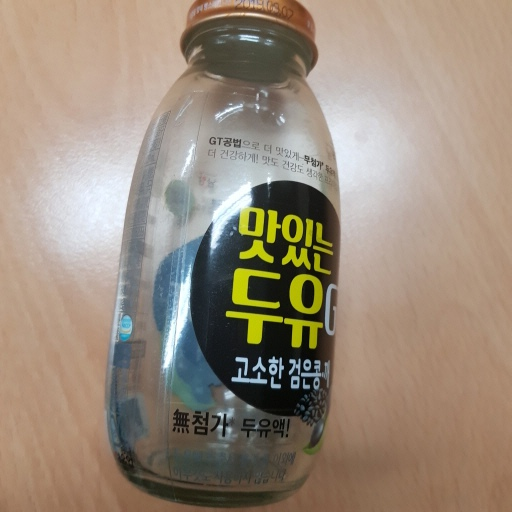Glass_4: (111, 1, 347, 506)
